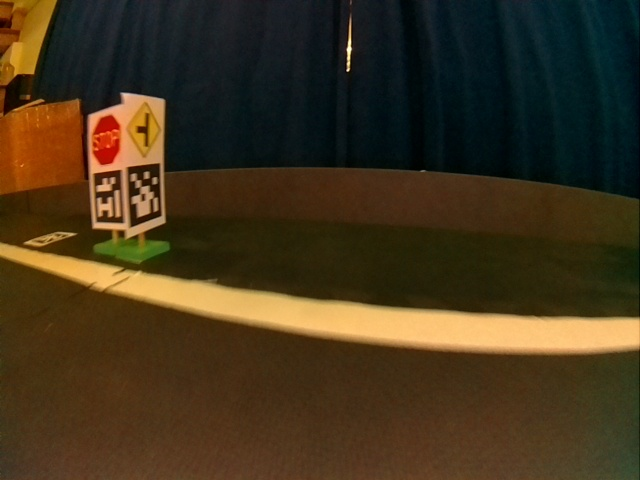Intersection sign: (127, 96, 165, 157)
QR code: (126, 163, 165, 229), (89, 172, 122, 224), (25, 232, 76, 248)
Stop sign: (87, 112, 120, 167)
